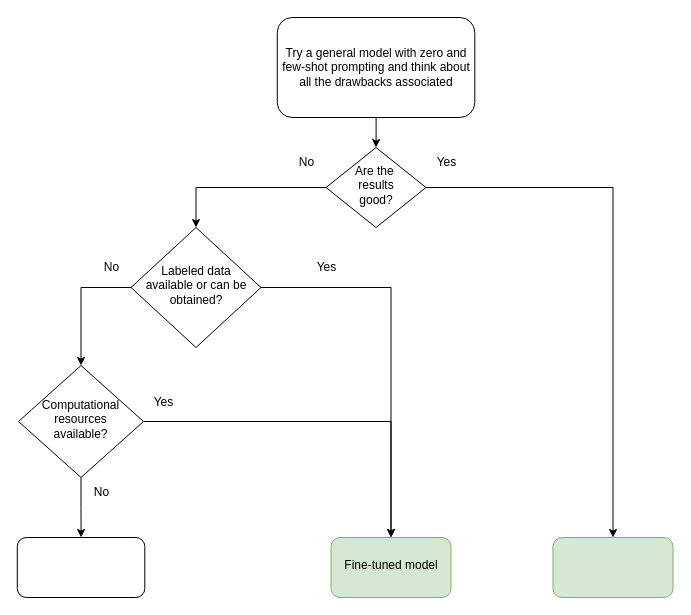
This 691x615 diagram has some shape labels left out. Each missing label, with the box of its shape:
General model + Prompting: (552, 536, 673, 598)
Problem! General model do not work and no data available: (16, 536, 145, 598)
